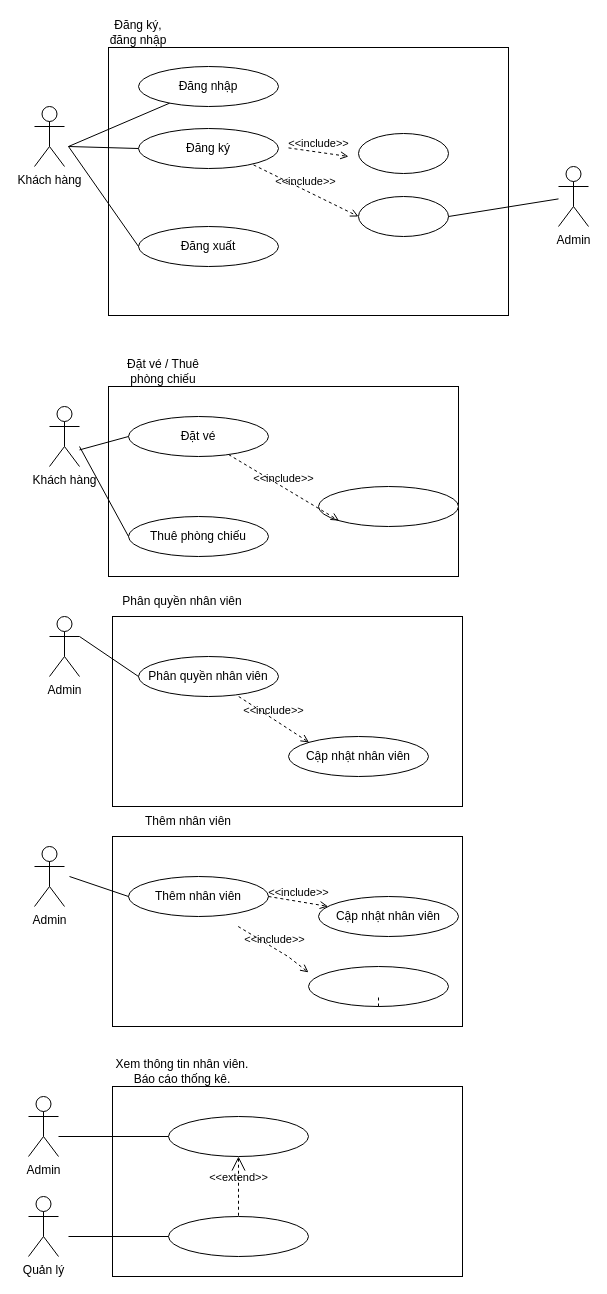
The diagram is 607 pixels wide and 1294 high, and some of its shapes have lost their labels. The shapes that lost their labels are listed below. From the top down, each one's centre as x and y in pixels, then its label:
At (x=403, y=153): "Nhập thông tin cá nhân".
At (x=403, y=216): "Thêm tài khoán khách hàng".
At (x=388, y=506): "Thanh toán".
At (x=378, y=986): "Cấp tài khoản".
At (x=238, y=1136): "Xem thông tin nhân viên".
At (x=238, y=1236): "Báo cáo thống kê".
